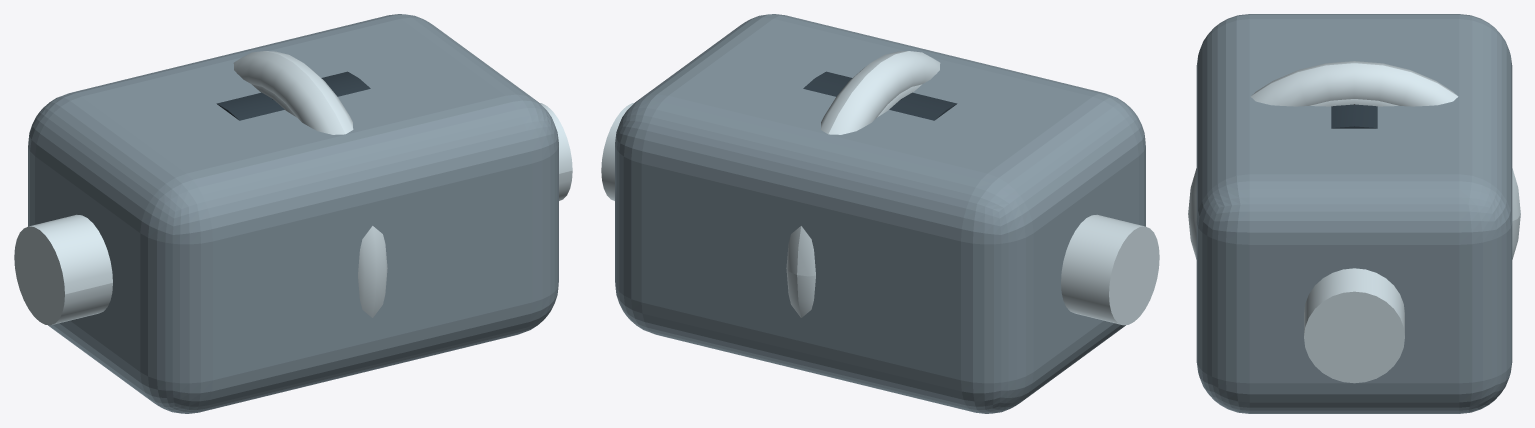
File: g4ed_engine_sensors.glb
The picture shows the model from 3 angles, left to right: view 1: azimuth 30°, elevation 25°; view 2: azimuth 150°, elevation 25°; view 3: azimuth 270°, elevation 25°; orthographic projection.
Parts seen in each view (by area): view 1: asset_mesh__g4ed_258__reference_body, asset_mesh__g4ed_258__reference_axis, asset_mesh__g4ed_256__reference_rim, asset_mesh__g4ed_256__reference_rotor; view 2: asset_mesh__g4ed_258__reference_body, asset_mesh__g4ed_258__reference_axis, asset_mesh__g4ed_256__reference_rim, asset_mesh__g4ed_256__reference_rotor; view 3: asset_mesh__g4ed_258__reference_body, asset_mesh__g4ed_258__reference_axis, asset_mesh__g4ed_256__reference_rim, asset_mesh__g4ed_256__reference_rotor, asset_mesh__g4ed_255__reference_rim.
Part boxes in pixels (left/top/right/bottom): asset_mesh__g4ed_258__reference_body: left=28, top=14, right=558, bottom=413; asset_mesh__g4ed_258__reference_axis: left=14, top=103, right=572, bottom=325; asset_mesh__g4ed_256__reference_rim: left=233, top=51, right=387, bottom=317; asset_mesh__g4ed_256__reference_rotor: left=216, top=71, right=370, bottom=120; asset_mesh__g4ed_258__reference_body: left=615, top=14, right=1145, bottom=413; asset_mesh__g4ed_258__reference_axis: left=601, top=103, right=1159, bottom=325; asset_mesh__g4ed_256__reference_rim: left=786, top=51, right=940, bottom=317; asset_mesh__g4ed_256__reference_rotor: left=803, top=71, right=957, bottom=120; asset_mesh__g4ed_258__reference_body: left=1196, top=14, right=1512, bottom=413; asset_mesh__g4ed_258__reference_axis: left=1304, top=268, right=1404, bottom=383; asset_mesh__g4ed_256__reference_rim: left=1188, top=61, right=1520, bottom=259; asset_mesh__g4ed_256__reference_rotor: left=1331, top=104, right=1377, bottom=128; asset_mesh__g4ed_255__reference_rim: left=1310, top=99, right=1398, bottom=106.
Size of the model in its own units: 1.98 by 1.13 by 1.13.
